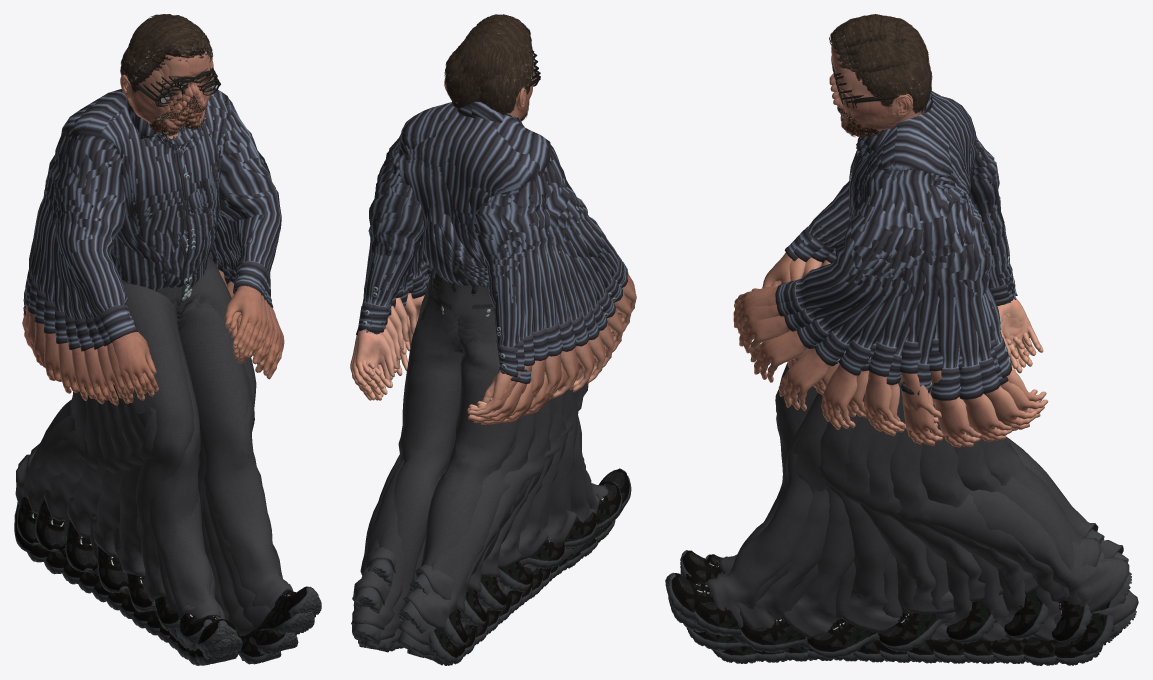
File: caminante_mr_man.glb
The picture shows the model from 3 angles, left to right: view 1: azimuth 30°, elevation 25°; view 2: azimuth 150°, elevation 25°; view 3: azimuth 270°, elevation 25°; orthographic projection. The views are drawn at different scales.
Parts seen in each view (by area): view 1: frame4, frame5, frame14, frame17, frame1, frame2, frame16, frame15, frame13, frame11, frame10, frame9 (+12 smaller); view 2: frame18, frame13, frame8, frame7, frame14, frame9, frame6, frame12, frame19, frame1, frame11, frame15 (+11 smaller); view 3: frame1, frame20, frame21, frame4, frame2, frame0, frame8, frame22, frame23, frame19, frame18, frame17 (+12 smaller).
Part boxes in pixels (x1,y1,x2,y2): frame4: (57,44,321,617); frame5: (61,47,314,644); frame14: (25,17,246,630); frame17: (24,52,281,659); frame1: (55,15,251,618); frame2: (54,16,219,610); frame16: (24,43,275,652); frame15: (24,30,259,644); frame13: (28,14,252,612); frame11: (43,189,235,572); frame10: (35,193,230,552); frame9: (17,242,218,545); frame18: (361,56,615,649); frame13: (419,29,588,568); frame8: (368,46,623,663); frame7: (350,155,631,665); frame14: (431,31,596,547); frame9: (371,50,613,646); frame6: (352,187,636,658); frame12: (397,31,584,591); frame19: (351,59,598,652); frame1: (379,14,578,606); frame11: (396,37,594,610); frame15: (422,39,622,549); frame1: (805,14,966,658); frame20: (750,144,1131,655); frame21: (778,197,1105,642); frame4: (665,54,1037,637); frame2: (739,26,963,652); frame0: (819,37,956,652); frame8: (756,58,1128,662); frame22: (821,194,1048,638); frame23: (838,148,1004,643); frame19: (738,179,1138,665); frame18: (733,174,1113,665); frame17: (680,168,1060,663).
Bounding box in the file's own units: 1.18 × 3.15 × 2.15.
10 materials, 10 textured.
